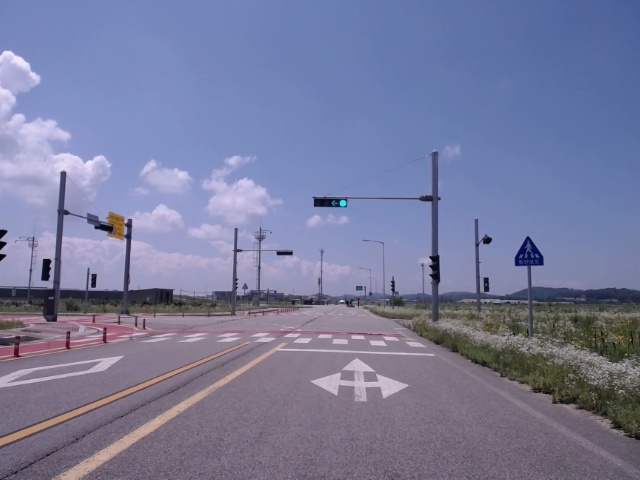all_green_4: (314, 196, 349, 207)
